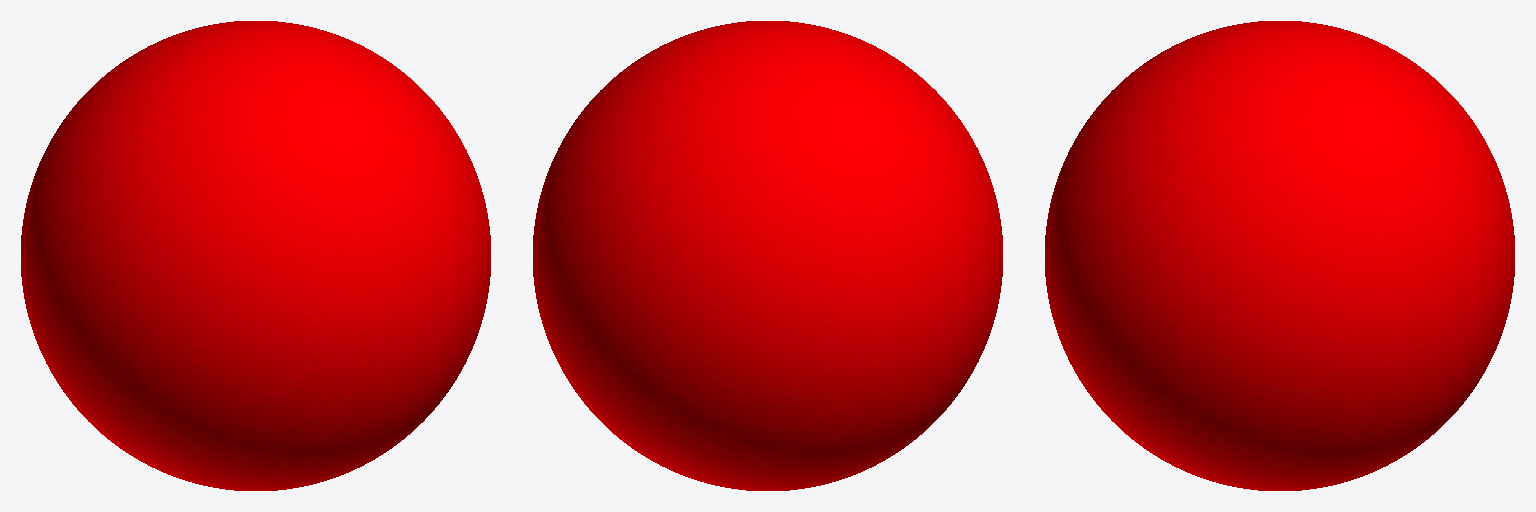
Rendered from semaphore_red.obj.
The picture shows the model from 3 angles: view 1: azimuth 30°, elevation 25°; view 2: azimuth 150°, elevation 25°; view 3: azimuth 270°, elevation 25°; orthographic projection.
Visible parts, largest first — view 1: tkSemaphore_Red; view 2: tkSemaphore_Red; view 3: tkSemaphore_Red.
Part boxes in pixels (bbox=[...]): tkSemaphore_Red: bbox=[21, 21, 490, 490]; tkSemaphore_Red: bbox=[533, 21, 1002, 490]; tkSemaphore_Red: bbox=[1045, 21, 1514, 490].
Size of the model in its own units: 0.2 by 0.2 by 0.1999.